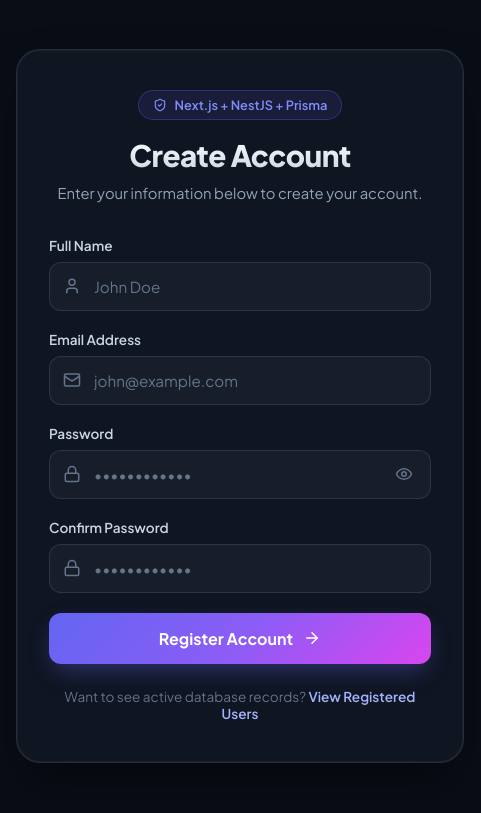
Test: RegistrationForm Component › shows validation error messages when submitting empty form
The image size is (481, 813).
Click the button "Register Account": coordinates (240, 638) [49, 613, 431, 664]
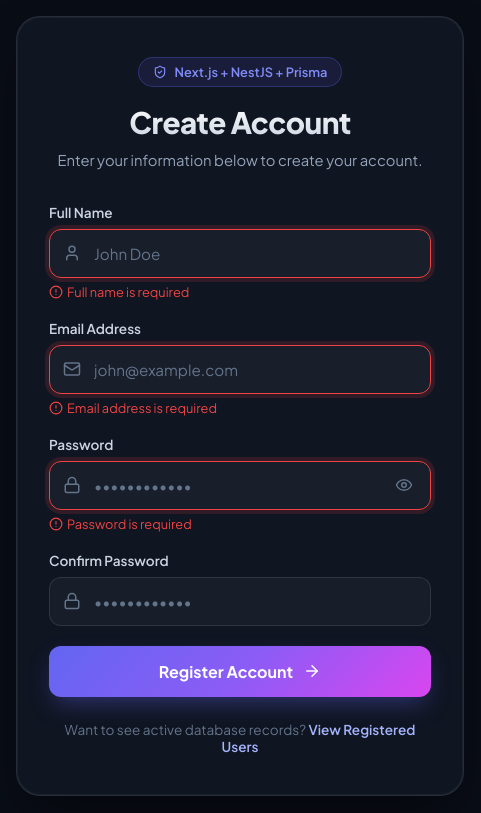
Check: the text "Full name is required" is shown, box [49, 284, 189, 300]
Check: the text "Email address is required" is shown, box [49, 400, 217, 416]
Check: the text "Password is required" is shown, box [49, 516, 192, 532]
